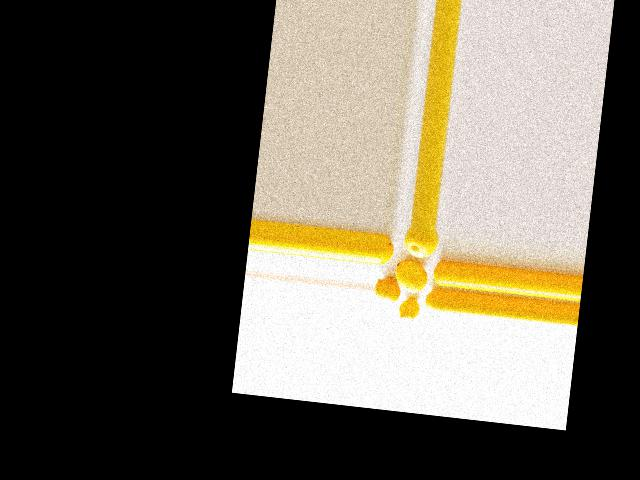lemon: (376, 238, 397, 270)
